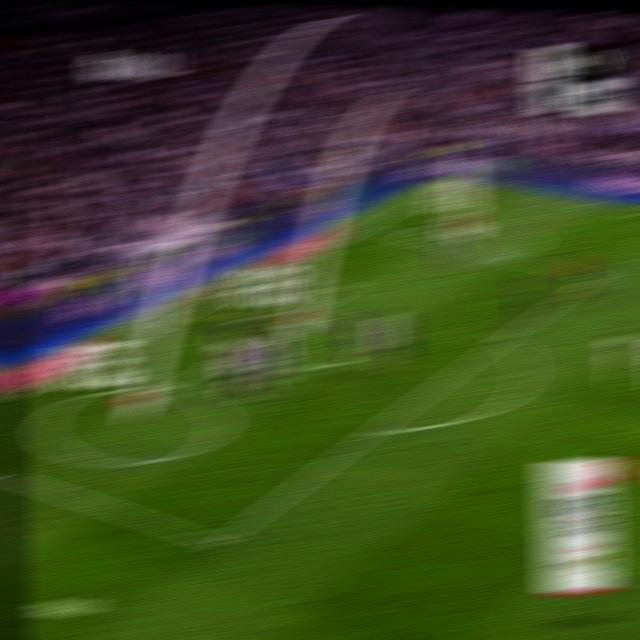bigarea_bottom_inner: (204, 527, 232, 559)
bigarea_top_inner: (585, 267, 609, 285)
bottom_arc_area_intersection: (364, 419, 389, 439)
smallarea_top_inner: (339, 280, 363, 296)
smallarea_top_outter: (301, 305, 322, 318)
top_arc_area_intersection: (495, 330, 518, 346)
